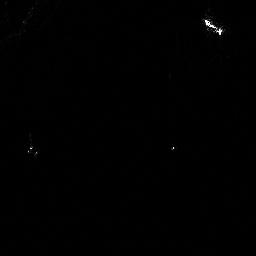ship: (198, 13, 228, 38)
